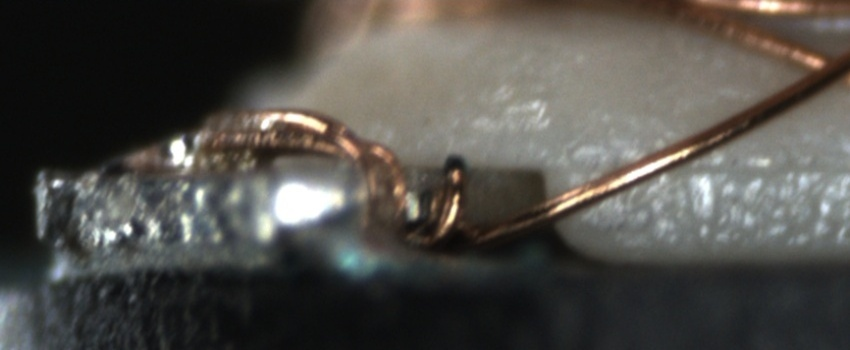CL: (776, 36, 847, 103)
DL: (592, 145, 849, 197)
TE: (205, 103, 477, 258)
